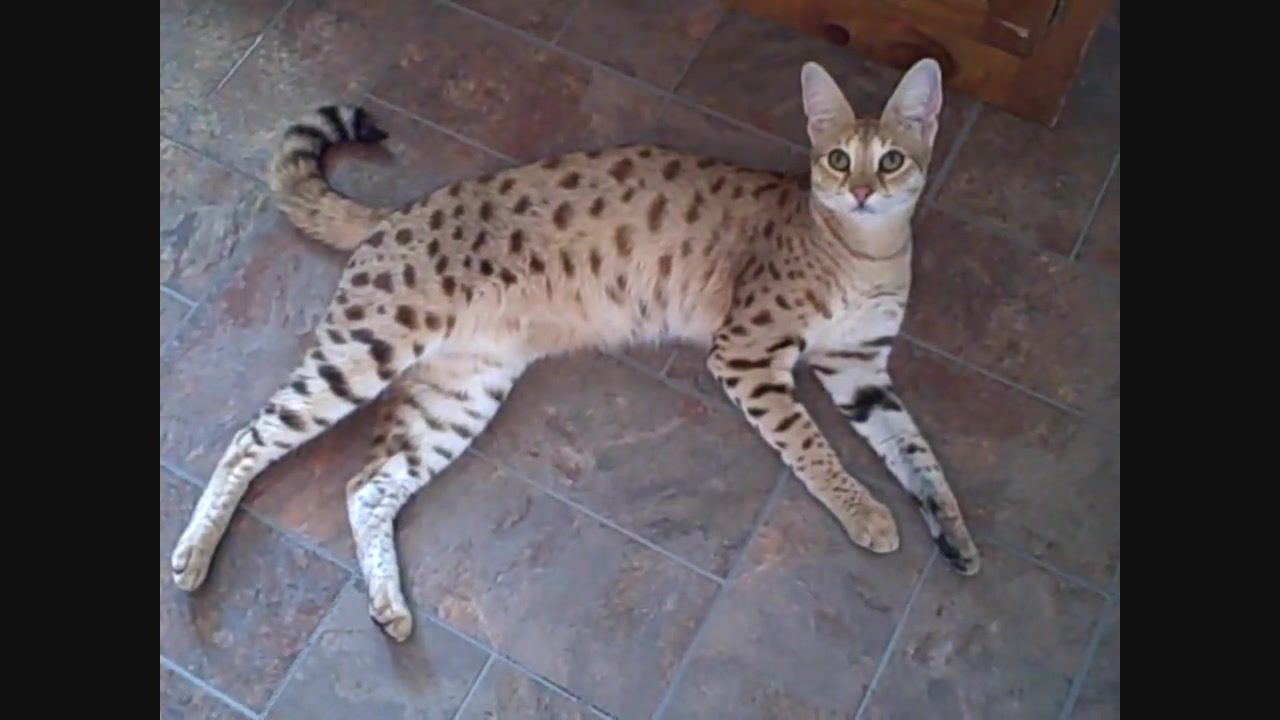cat: (168, 59, 990, 647)
